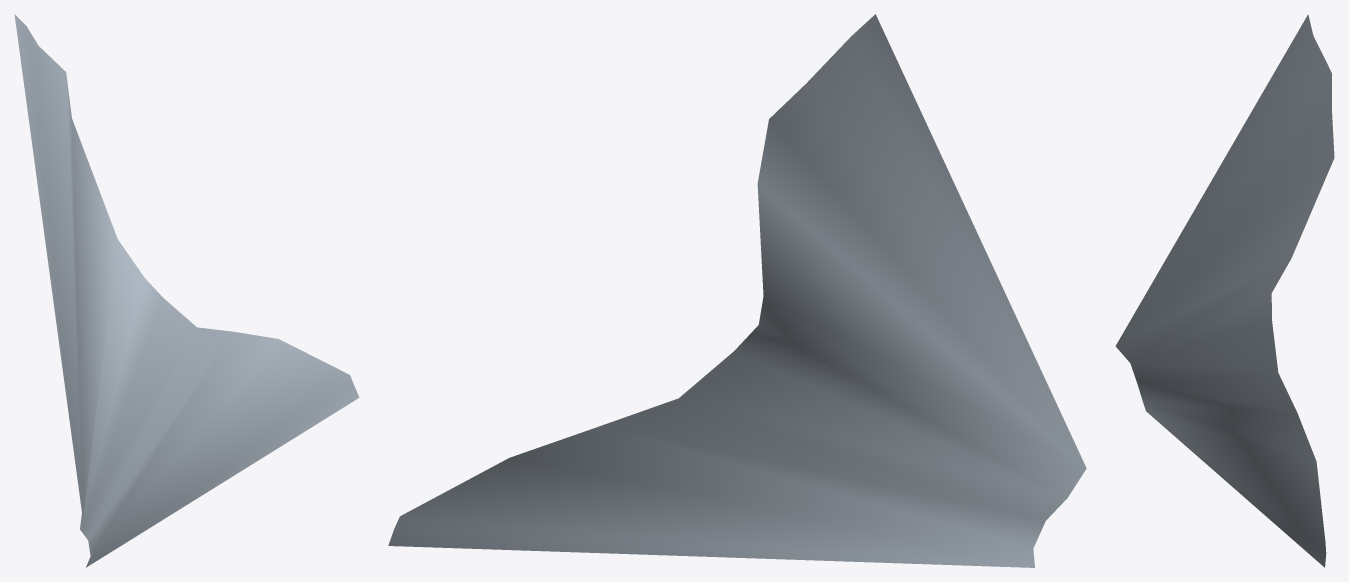
Rendered from sacrospinous-ligament-r.glb.
3 views of the same model, side by side, from view 1: azimuth 30°, elevation 25°; view 2: azimuth 150°, elevation 25°; view 3: azimuth 270°, elevation 25° (orthographic). The views are drawn at different scales.
Parts seen in each view (by area): view 1: Sacrospinous ligament.r; view 2: Sacrospinous ligament.r; view 3: Sacrospinous ligament.r.
Part boxes in pixels (x1=…): Sacrospinous ligament.r: x1=14, y1=14, x2=359, y2=567; Sacrospinous ligament.r: x1=388, y1=14, x2=1086, y2=567; Sacrospinous ligament.r: x1=1115, y1=14, x2=1334, y2=567.
Size of the model in its own units: 0.0384 by 0.044 by 0.0214.
